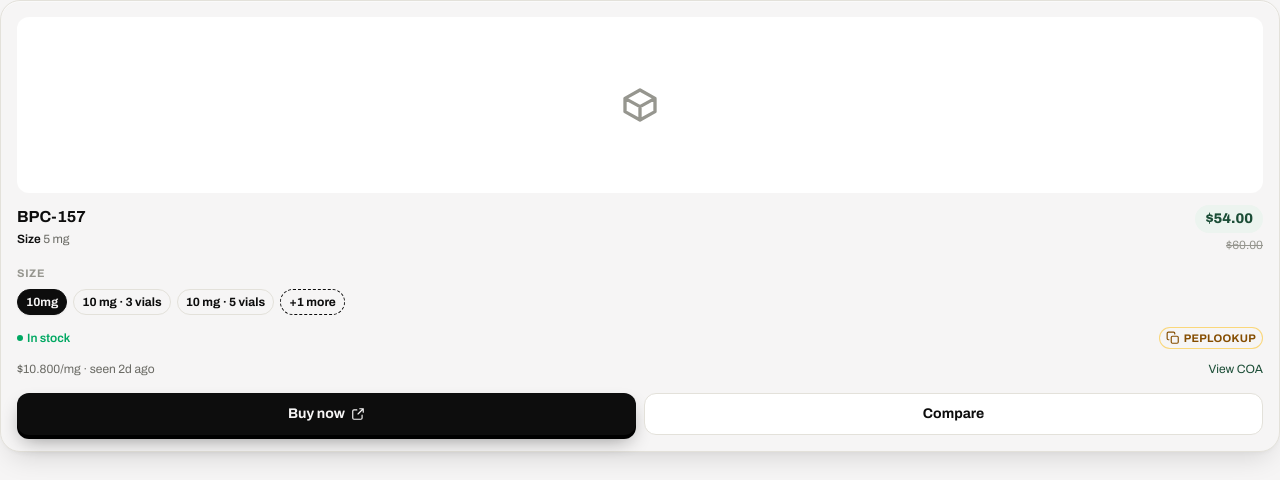
Scenario: OfferVariantCard › shows the first three sizes, then a "+N more" chip that reveals the rest
Expected: the button "10 mg · 10 vials" is not shown
Step 1. Click the button with aria-label "Show 1 more sizes" → x=312, y=302, box [280,289,345,315]
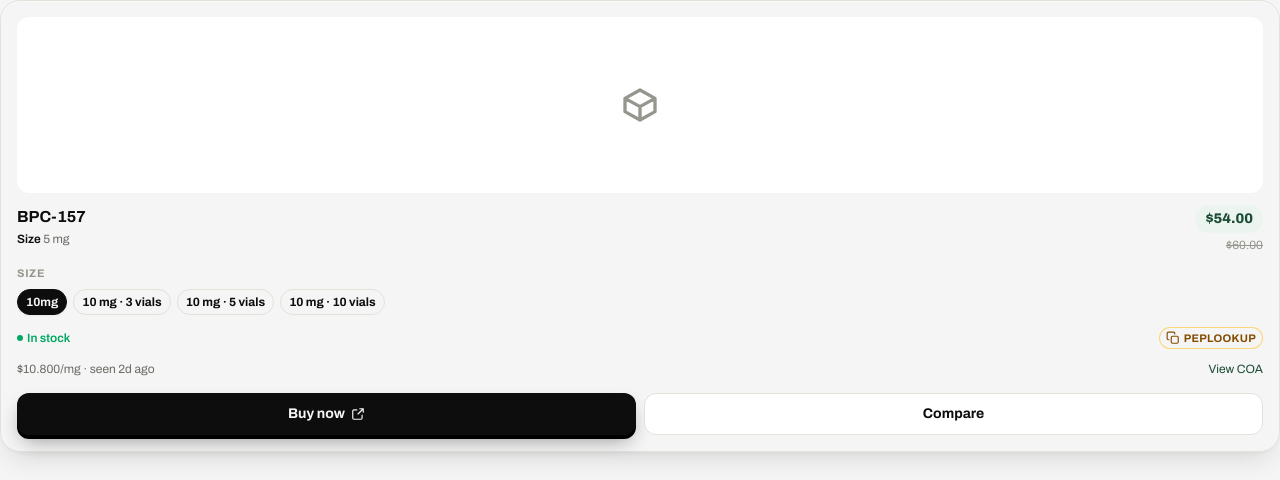
Now the button "10 mg · 10 vials" is shown, box [280,289,385,315]
